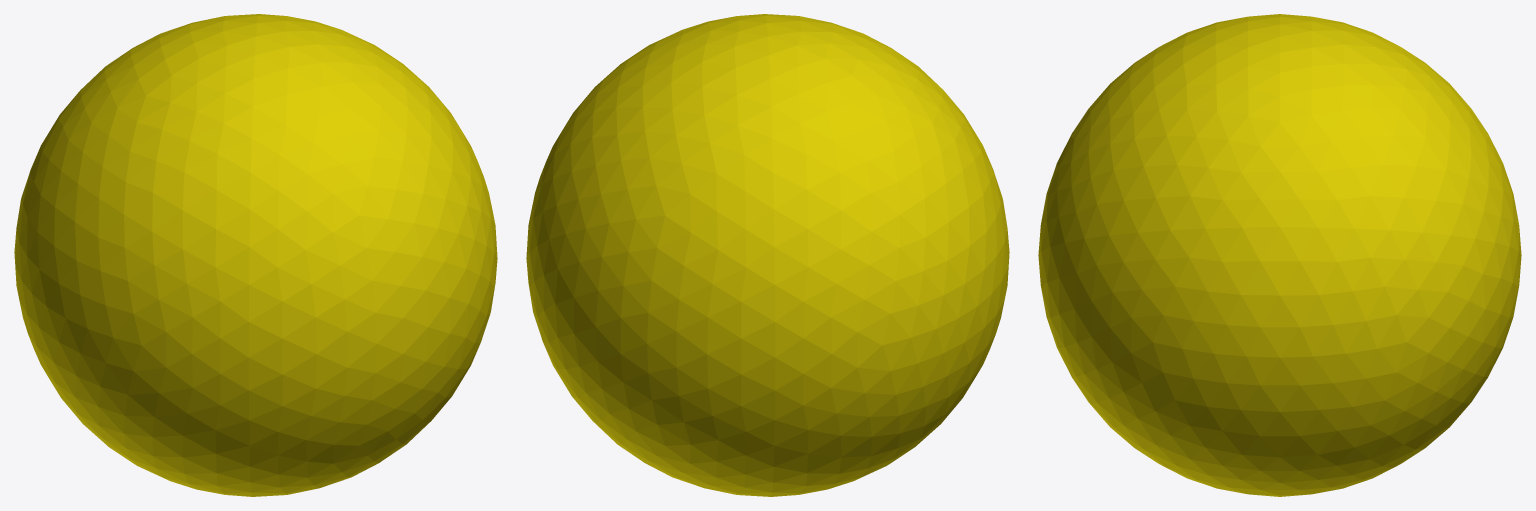
3 views of the same model, side by side, from view 1: azimuth 30°, elevation 25°; view 2: azimuth 150°, elevation 25°; view 3: azimuth 270°, elevation 25° (orthographic).
Parts seen in each view (by area): view 1: world; view 2: world; view 3: world.
Boxes of the visible parts, <box> form: world: <box>14,14,497,496</box>; world: <box>526,14,1009,496</box>; world: <box>1038,14,1521,496</box>.
Bounding box in the file's own units: 2 × 2 × 2.
